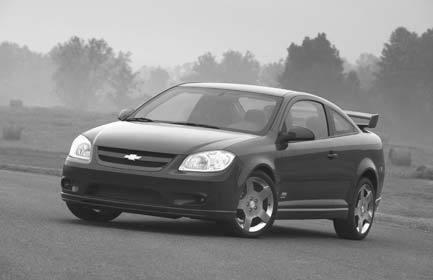car: (60, 81, 389, 243)
